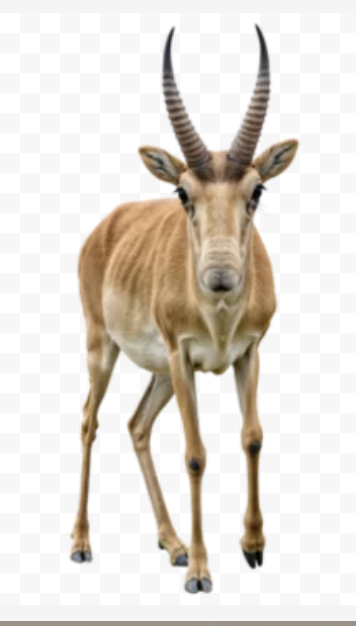saiga: (77, 22, 315, 598)
